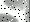person: (1, 1, 30, 22)
